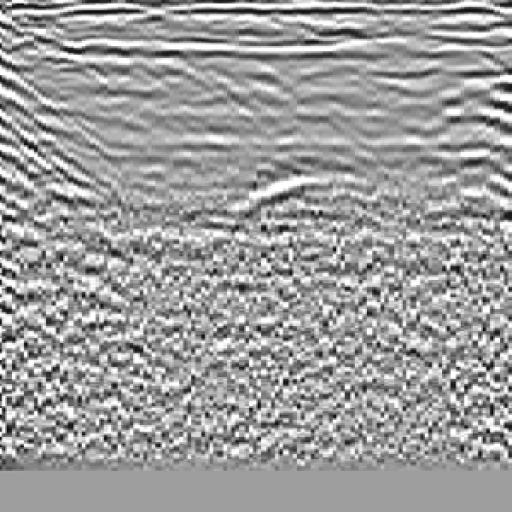metalic: (217, 34, 379, 284)
nonmetalic: (1, 49, 98, 318)
